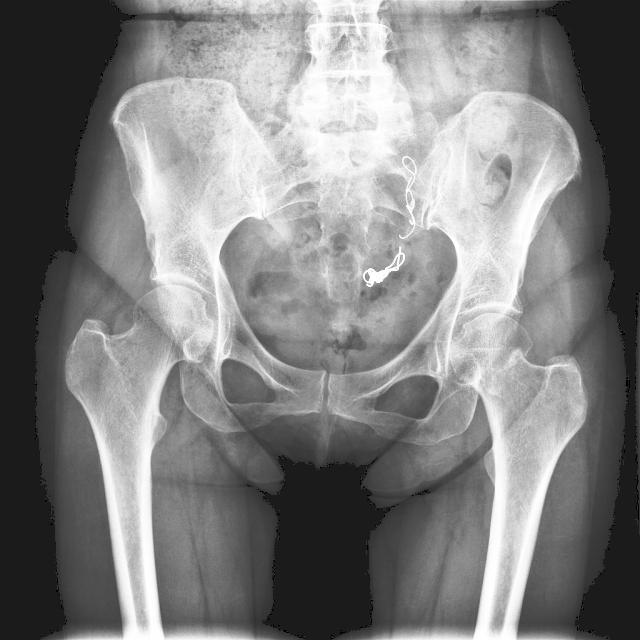Impact Fracture: (316, 369, 338, 416)
